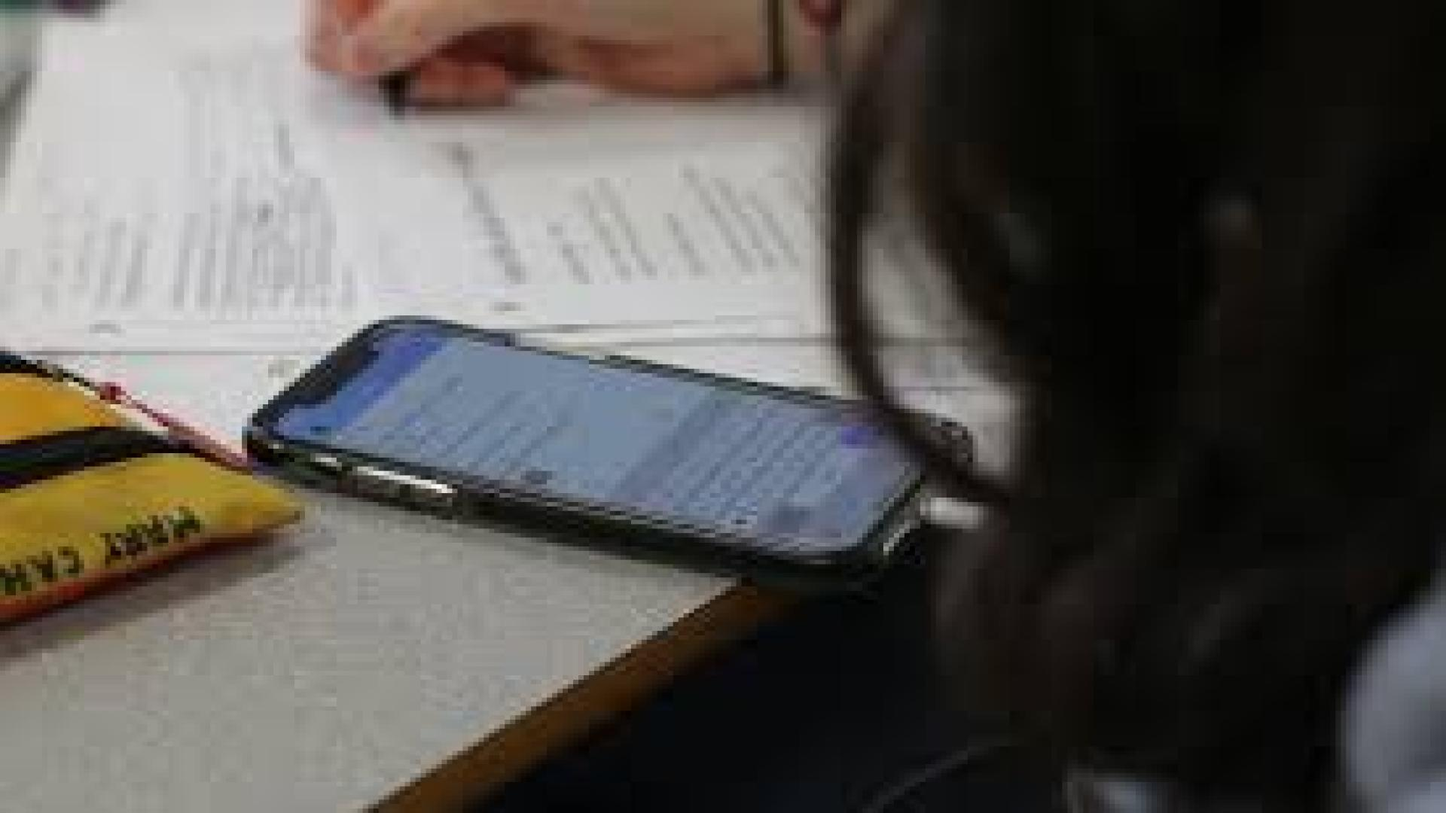phone: (228, 310, 970, 585)
